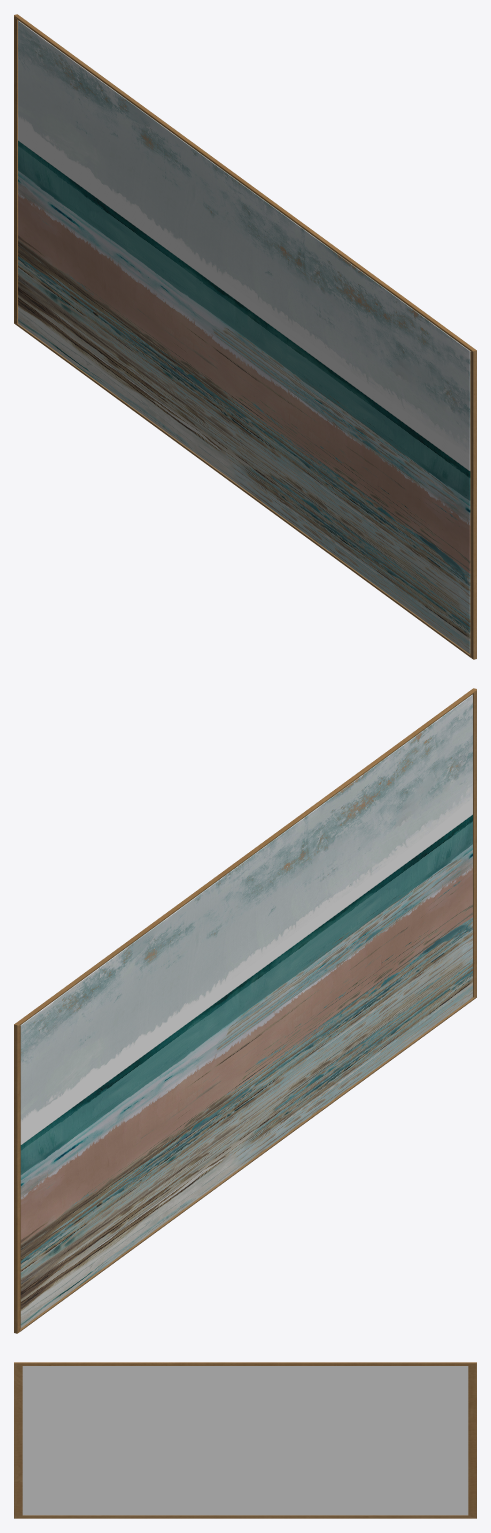
File: Pintura.glb
The picture shows the model from 3 angles, top to bottom: view 1: azimuth 30°, elevation 25°; view 2: azimuth 150°, elevation 25°; view 3: azimuth 270°, elevation 25°; orthographic projection. The views are drawn at different scales.
Visible parts, largest first — view 1: frame-v4-2.019; view 2: frame-v4-2.019; view 3: frame-v4-2.019.
Boxes of the visible parts, <box> form: frame-v4-2.019: <box>14,14,476,659</box>; frame-v4-2.019: <box>14,688,476,1333</box>; frame-v4-2.019: <box>14,1362,476,1518</box>.
Bounding box in the file's own units: 0.0262 × 1.95 × 5.27.
Materials: 4 (2 with a texture image).
